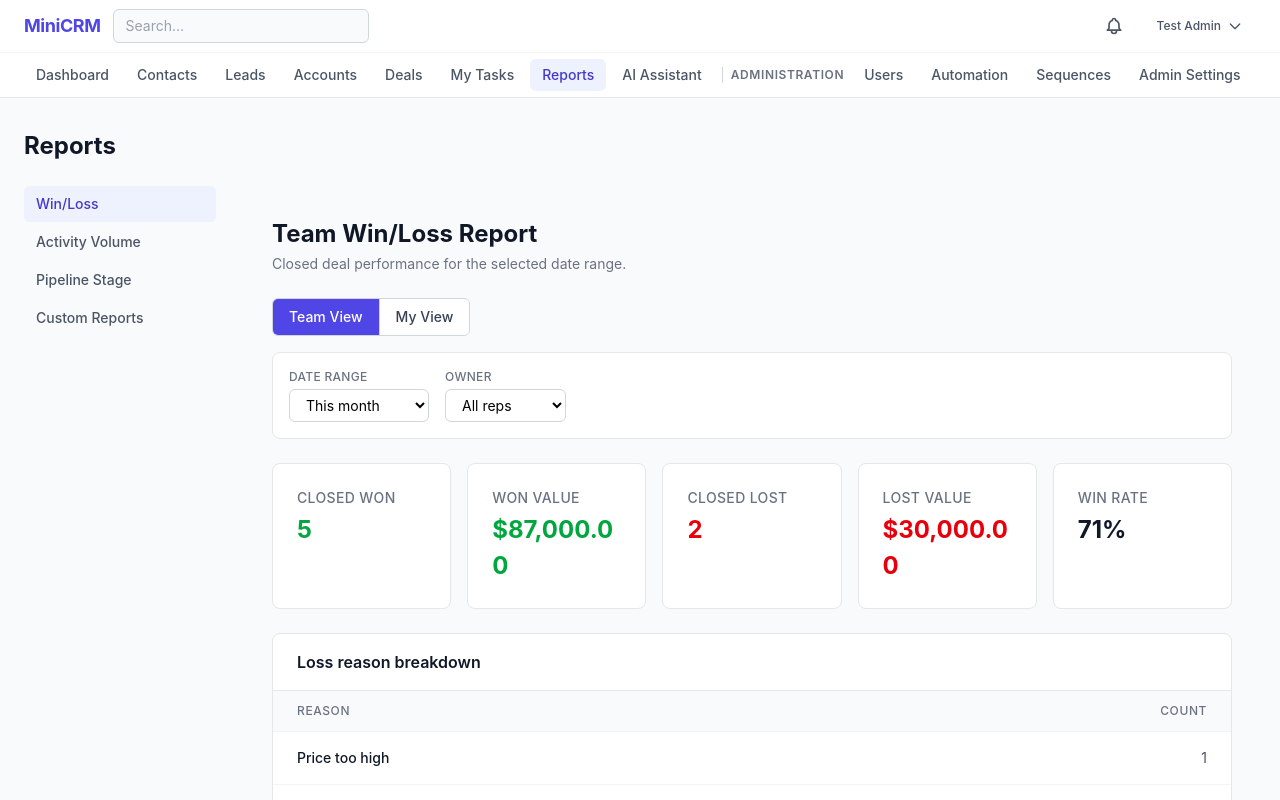
Test: ReportsPage › clicking the pipeline-stage tab switches to stage trend content
This screenshot has width=1280, height=800.
Click the tab with test id "reports-tab-pipeline-stage".
click(120, 280)  # box [24, 262, 216, 298]
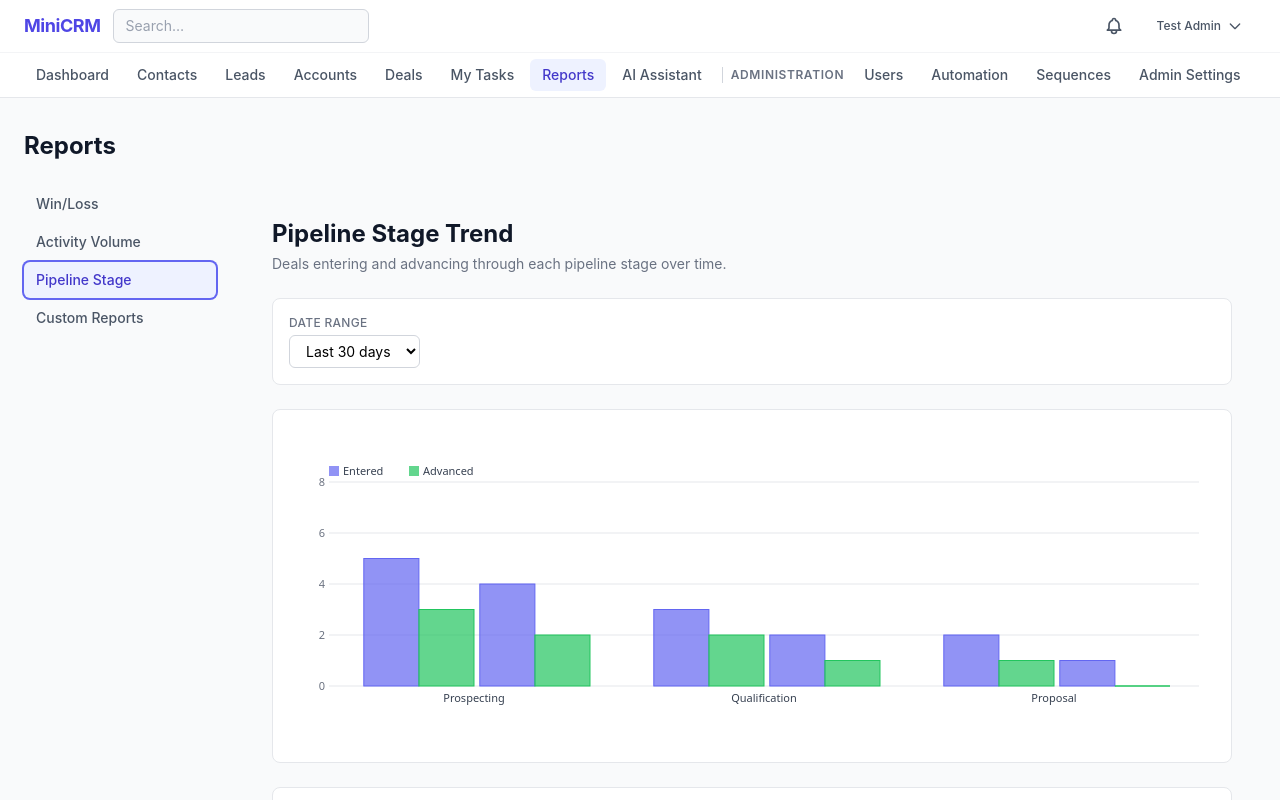
Now the heading "Pipeline Stage Trend" is shown, box [272, 219, 513, 248]
Now the heading with test id "win-loss-report-heading" is gone
